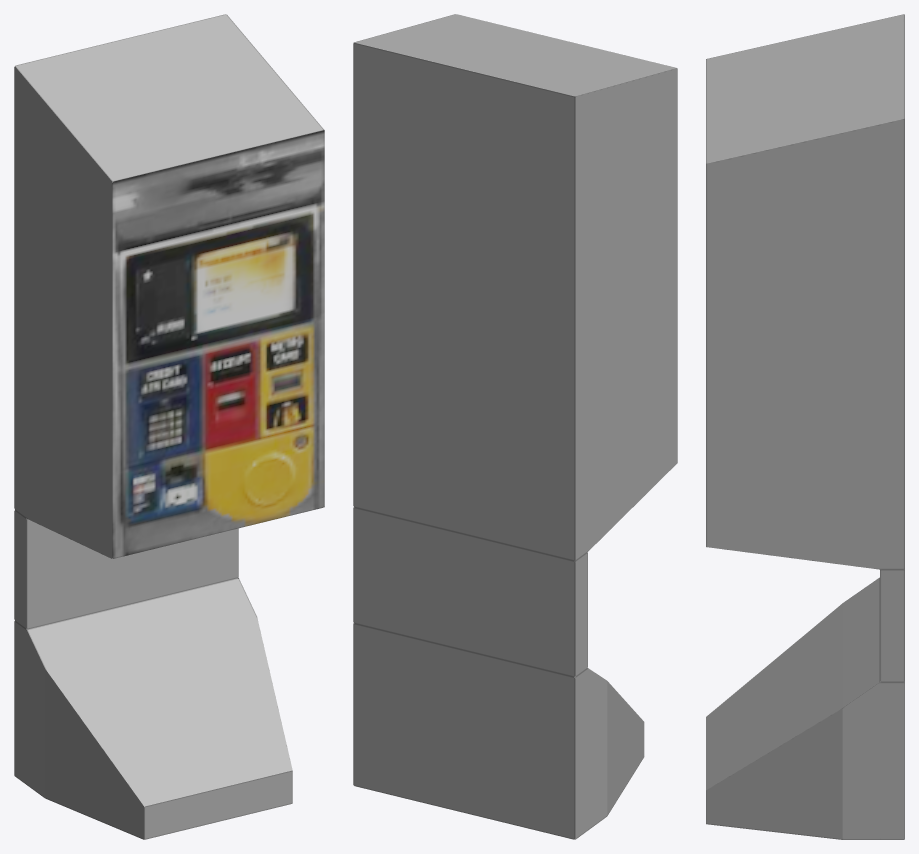
File: nyc_subway_ticket_machine_3.obj
3 renders of one model, left to right at view 1: azimuth 30°, elevation 25°; view 2: azimuth 150°, elevation 25°; view 3: azimuth 270°, elevation 25°, orthographic. The views are drawn at different scales.
Visible parts, largest first — view 1: cube; view 2: cube; view 3: cube.
Part boxes in pixels (left/top/right/bottom): cube: left=14, top=14, right=324, bottom=839; cube: left=353, top=14, right=677, bottom=839; cube: left=706, top=14, right=904, bottom=839.
Bounding box in the file's own units: 0.625 × 2 × 0.5.
1 material, 1 textured.
